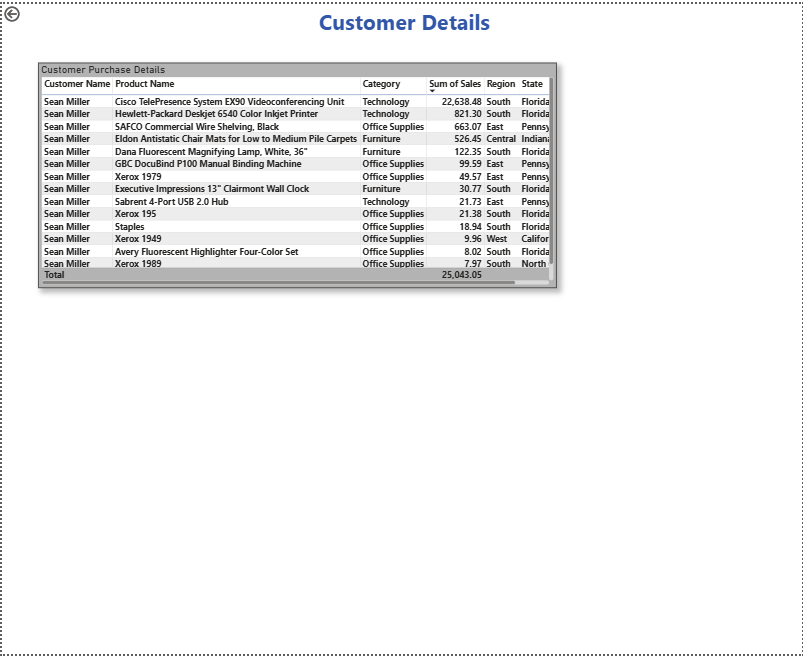

Layout of this report page (visuals, bound fields, positions):
{"tool":"powerbi","page":{"name":"Page 2","canvas":[1600,1300],"ordinal":1},"visuals":[{"type":"textbox","box":[10,0,1590,73.3],"z":0},{"type":"tableEx","title":"Customer Purchase Details","fields":{"Values":["Sales_Data.Customer Name","Sales_Data.Product Name","Sales_Data.Category","Sum(Sales_Data.Sales)","Sales_Data.Region","Sales_Data.State"]},"box":[73.3,116.7,1036.7,450],"z":1},{"type":"actionButton","box":[0,0,100,40],"z":2},{"type":"actionButton","box":[0,0,100,40],"z":3}]}

Visuals, with their boxes in screenshot pixels (x1, y1, x2, y2), scaled from the page's 1600x1300 canvas onto the 803x656 screenshot:
textbox: bbox(5, 0, 802, 37)
"Customer Purchase Details" tableEx: bbox(37, 59, 557, 286)
actionButton: bbox(0, 0, 50, 20)
actionButton: bbox(0, 0, 50, 20)
